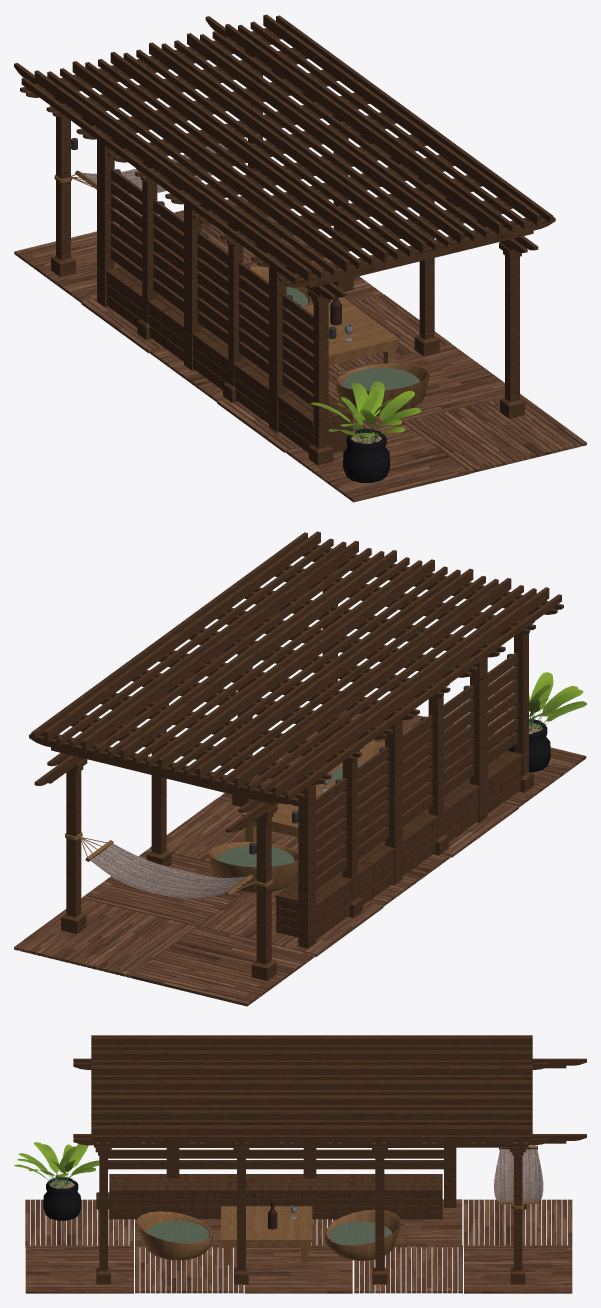
File: Terrace.fbx
3 views of the same model, one above another, from view 1: azimuth 30°, elevation 25°; view 2: azimuth 150°, elevation 25°; view 3: azimuth 270°, elevation 25° (orthographic). The views are drawn at different scales.
Visible parts, largest first — view 1: Wood_Structure, Wooden_Floor, FlowerPot_01, Table_01, Seat_01, Hammoc_01, Seat_02; view 2: Wood_Structure, Wooden_Floor, Hammoc_01, Seat_02, FlowerPot_01, Table_01, Seat_01; view 3: Wood_Structure, Wooden_Floor, Table_01, Seat_01, FlowerPot_01, Seat_02, Hammoc_01.
Boxes of the visible parts, x1,y1,x2,y2 form: Wood_Structure: (14, 14, 555, 465); Wooden_Floor: (14, 196, 586, 502); FlowerPot_01: (310, 381, 420, 482); Table_01: (259, 297, 399, 380); Seat_01: (336, 363, 429, 416); Hammoc_01: (54, 134, 260, 193); Seat_02: (220, 266, 313, 327); Wood_Structure: (29, 531, 563, 981); Wooden_Floor: (14, 710, 586, 1006); Hammoc_01: (65, 832, 272, 898); Seat_02: (208, 842, 298, 893); FlowerPot_01: (488, 672, 586, 772); Table_01: (241, 780, 381, 861); Seat_01: (327, 742, 416, 802); Wood_Structure: (73, 1035, 586, 1284); Wooden_Floor: (25, 1199, 572, 1293); Table_01: (221, 1206, 312, 1264); Seat_01: (137, 1211, 212, 1260); FlowerPot_01: (14, 1142, 99, 1220); Seat_02: (325, 1209, 400, 1260); Hammoc_01: (494, 1145, 543, 1208).
Bounding box in the file's own units: 27.32 × 19.65 × 62.68.
Materials: 3 (3 with a texture image).
